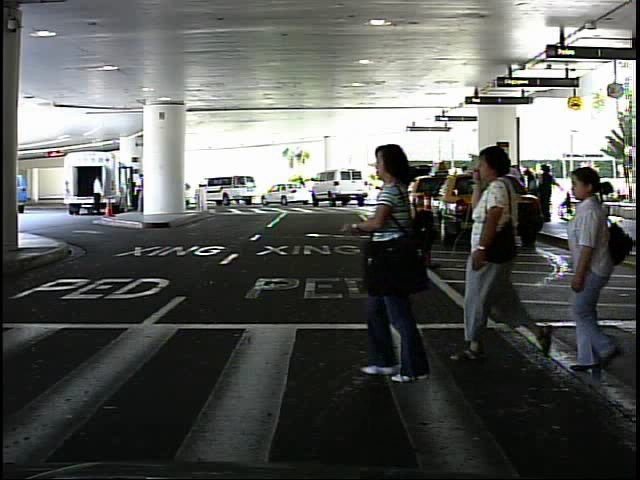person: (358, 132, 456, 388), (456, 135, 557, 370), (540, 169, 630, 376), (89, 170, 107, 220), (588, 172, 607, 218)
